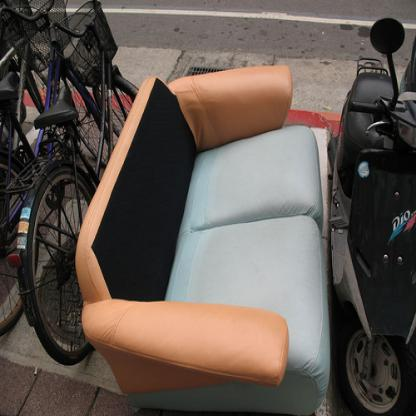bicycle: (6, 0, 140, 369), (0, 0, 112, 339)
motorbike: (330, 17, 415, 415)
sofa: (74, 63, 330, 415)
